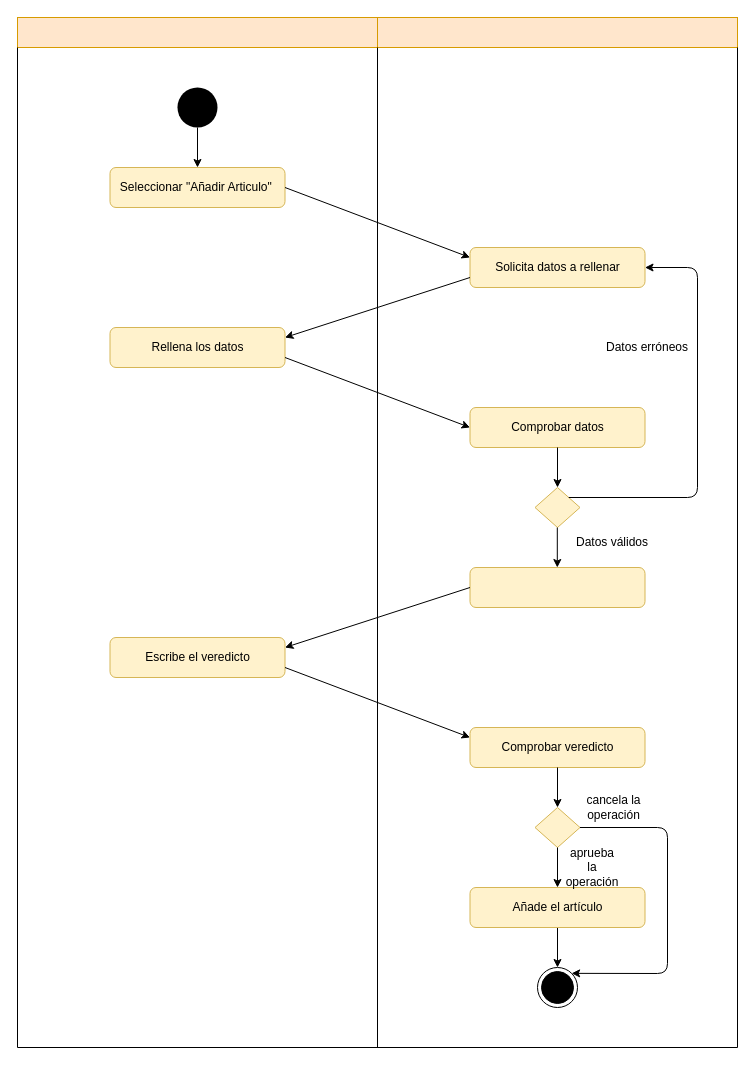
This 756x1066 diagram has some shape labels left out. The box of each missing label's shape, as (x1, y1, x2, y2) in pixels:
Administrador: (16, 16, 378, 48)
Sistema: (376, 16, 738, 48)
Solicita confirmación para añadir el artículo: (469, 566, 645, 608)
